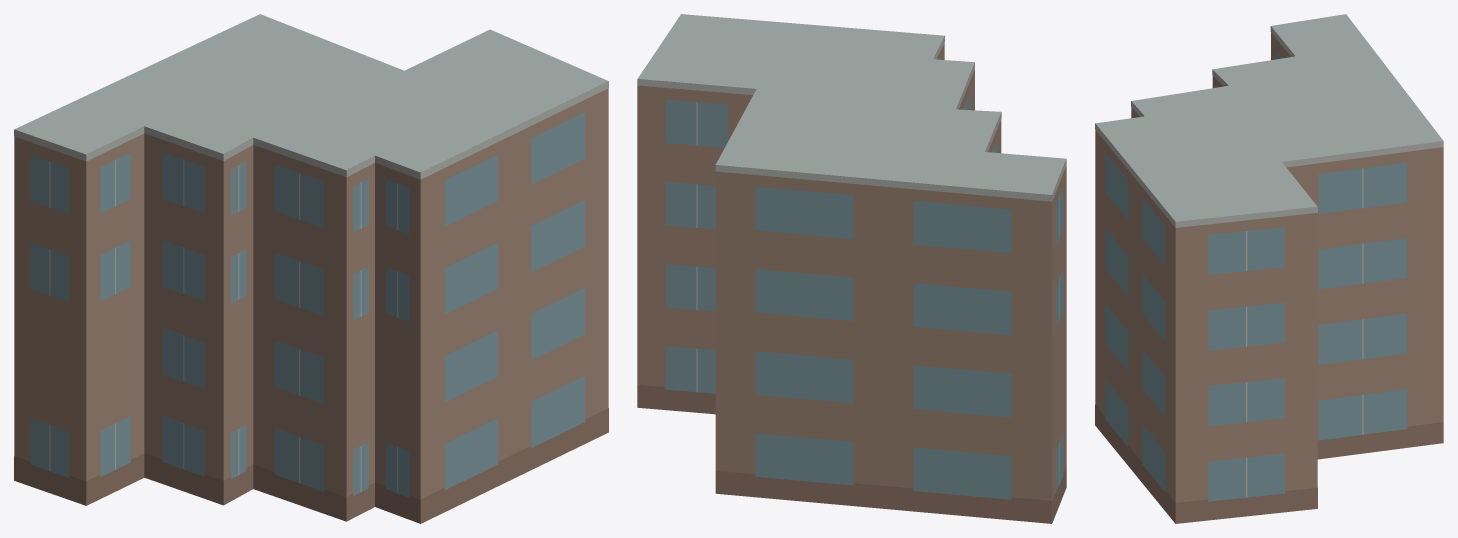
The model's file is survey-upis-32638604.glb.
The picture shows the model from 3 angles, left to right: view 1: azimuth 30°, elevation 25°; view 2: azimuth 150°, elevation 25°; view 3: azimuth 270°, elevation 25°; orthographic projection. The views are drawn at different scales.
Parts seen in each view (by area): view 1: survey-upis-32638604.tmp; view 2: survey-upis-32638604.tmp; view 3: survey-upis-32638604.tmp.
Boxes of the visible parts, box(x1,y1,x2,y2) form: survey-upis-32638604.tmp: box(14, 14, 608, 523); survey-upis-32638604.tmp: box(637, 14, 1066, 523); survey-upis-32638604.tmp: box(1095, 14, 1443, 523).
Bounding box in the file's own units: 18.02 × 12.2 × 12.77.
